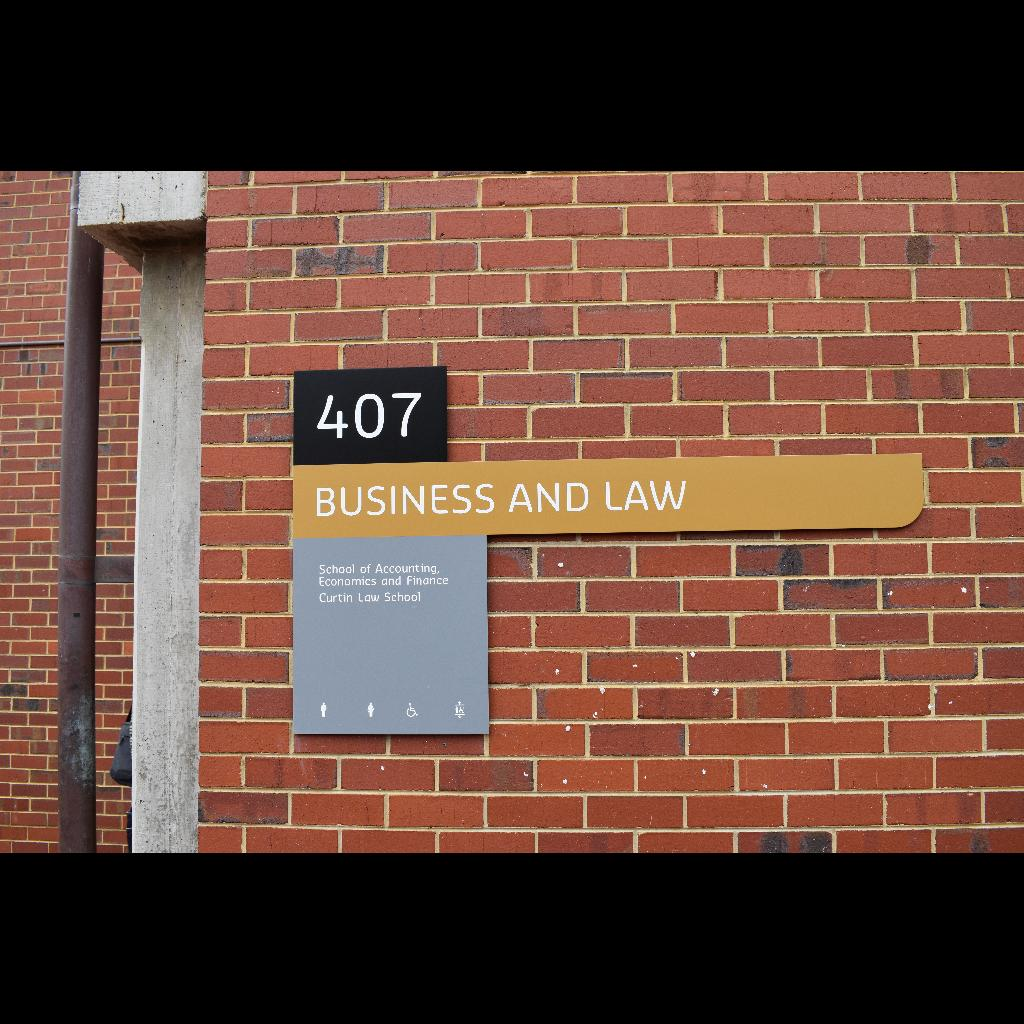BuildingCodes: (312, 388, 426, 444)
